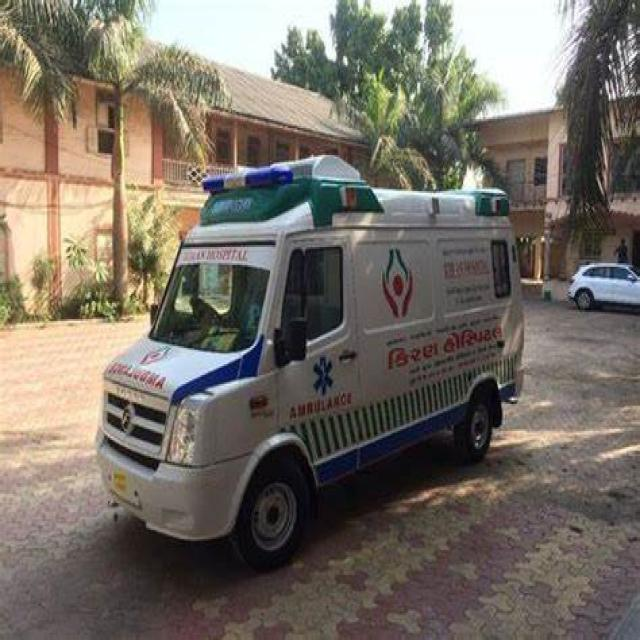ambulance: (183, 153, 299, 195)
